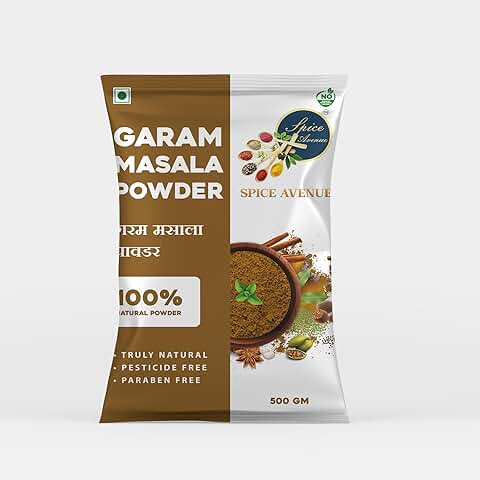Garamasala: (98, 74, 366, 433)
